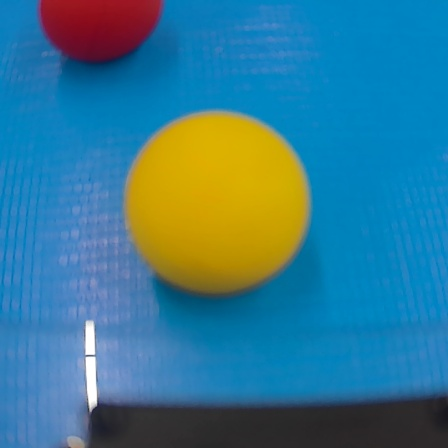blue_aim: (5, 3, 448, 448)
red: (35, 0, 174, 80)
yellow: (125, 108, 320, 303)
